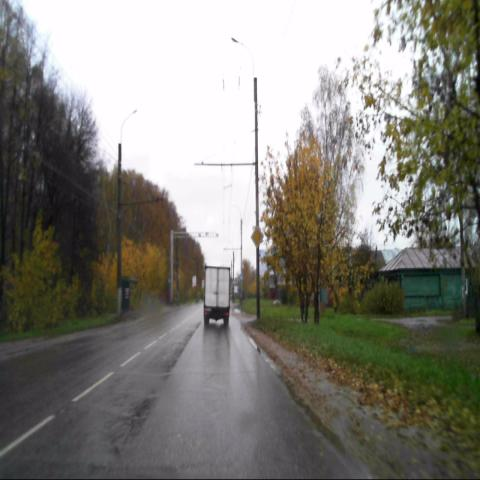2_1: (250, 224, 264, 248)
